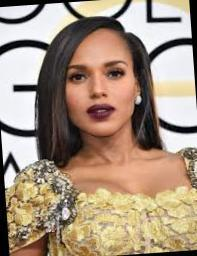Sober: (66, 35, 133, 130)
